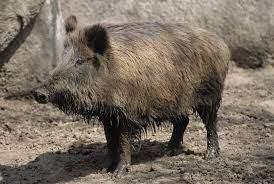Hog: (31, 12, 231, 178)
